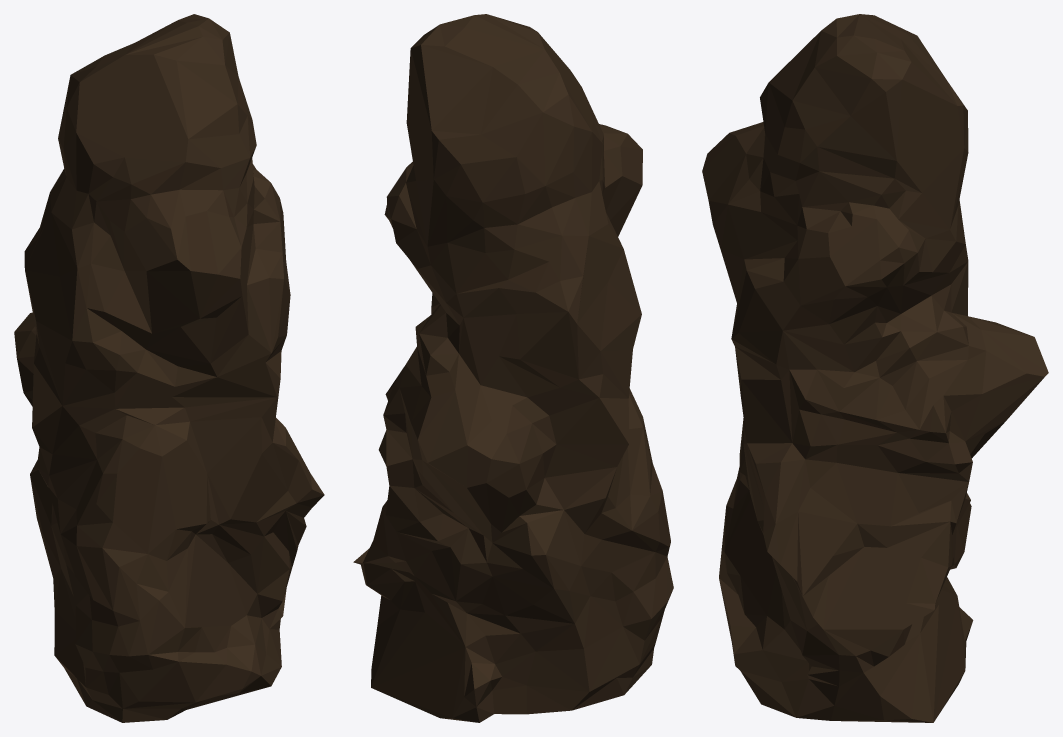
Rendered from SM_cliff_04.FBX.
3 views of the same model, side by side, from view 1: azimuth 30°, elevation 25°; view 2: azimuth 150°, elevation 25°; view 3: azimuth 270°, elevation 25° (orthographic). The views are drawn at different scales.
Parts seen in each view (by area): view 1: Group64387; view 2: Group64387; view 3: Group64387.
Part boxes in pixels (left/top/right/bottom): Group64387: left=14, top=14, right=324, bottom=722; Group64387: left=353, top=14, right=673, bottom=722; Group64387: left=702, top=14, right=1048, bottom=722.
Size of the model in its own units: 546 by 1364 by 644.
